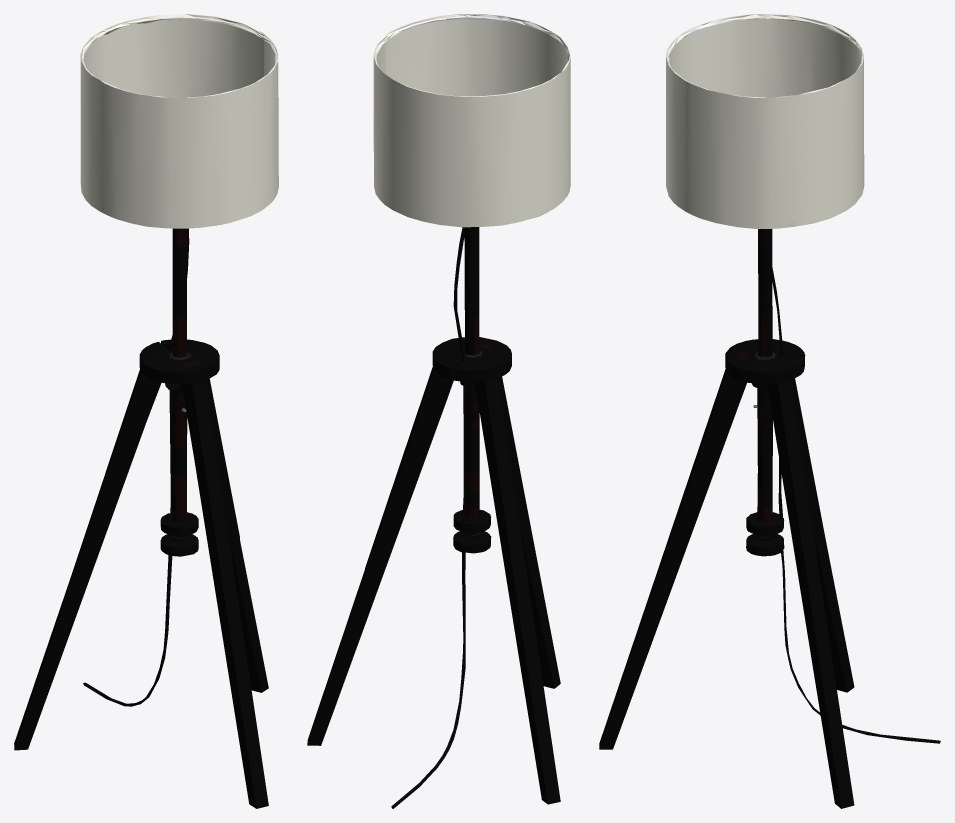
File: lauters_floor_lamp_brown_ash_white.glb
The picture shows the model from 3 angles, left to right: view 1: azimuth 30°, elevation 25°; view 2: azimuth 150°, elevation 25°; view 3: azimuth 270°, elevation 25°; orthographic projection.
Parts seen in each view (by area): view 1: ProcessedMeshNode; view 2: ProcessedMeshNode; view 3: ProcessedMeshNode.
Boxes of the visible parts, x1,y1,x2,y2 form: ProcessedMeshNode: (14, 14, 278, 808); ProcessedMeshNode: (307, 14, 570, 808); ProcessedMeshNode: (599, 14, 940, 808).
Size of the model in its own units: 0.5522 by 1.44 by 0.6418.
1 material, 1 textured.
